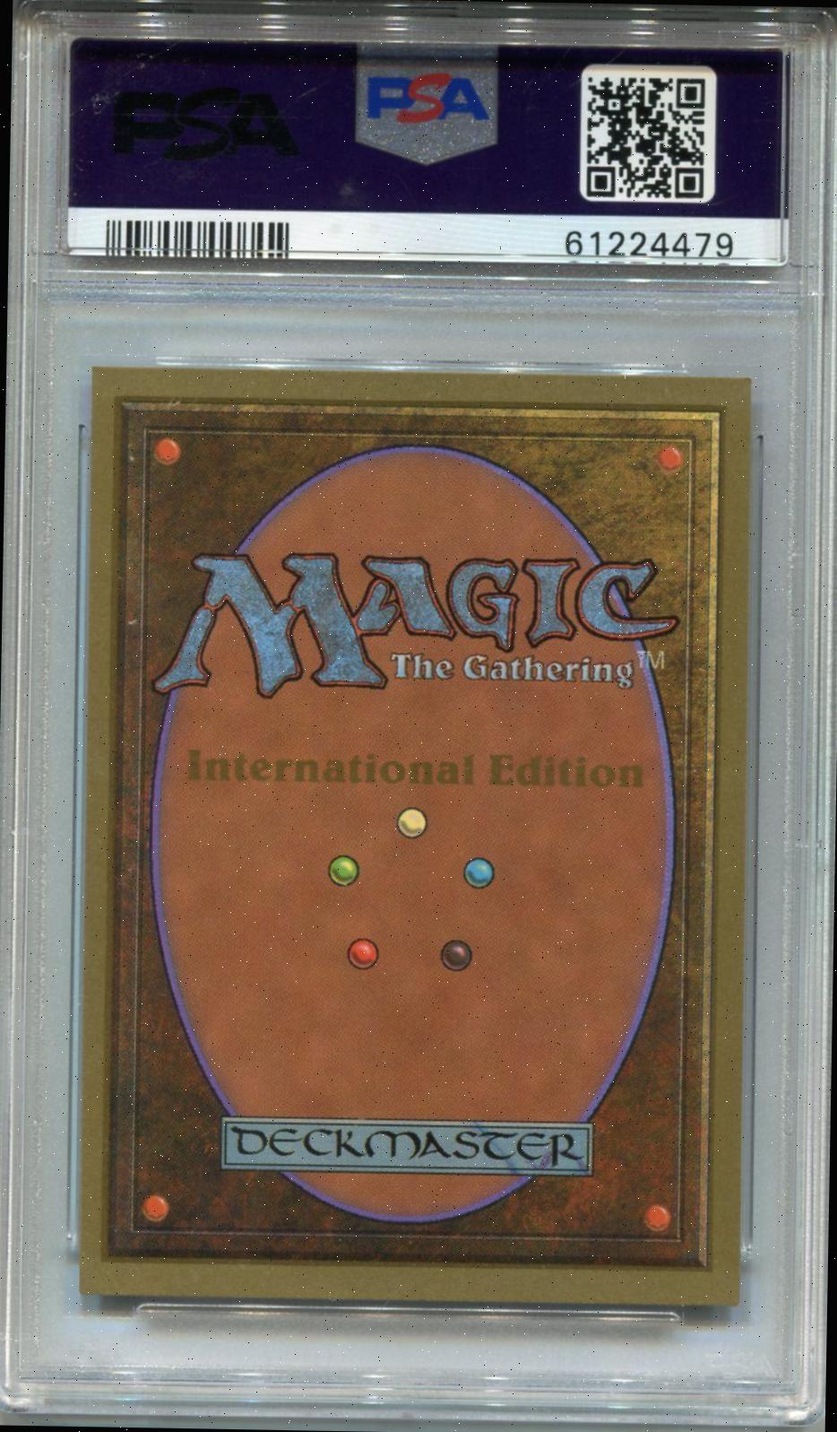card-2UtV: (78, 365, 752, 1306)
